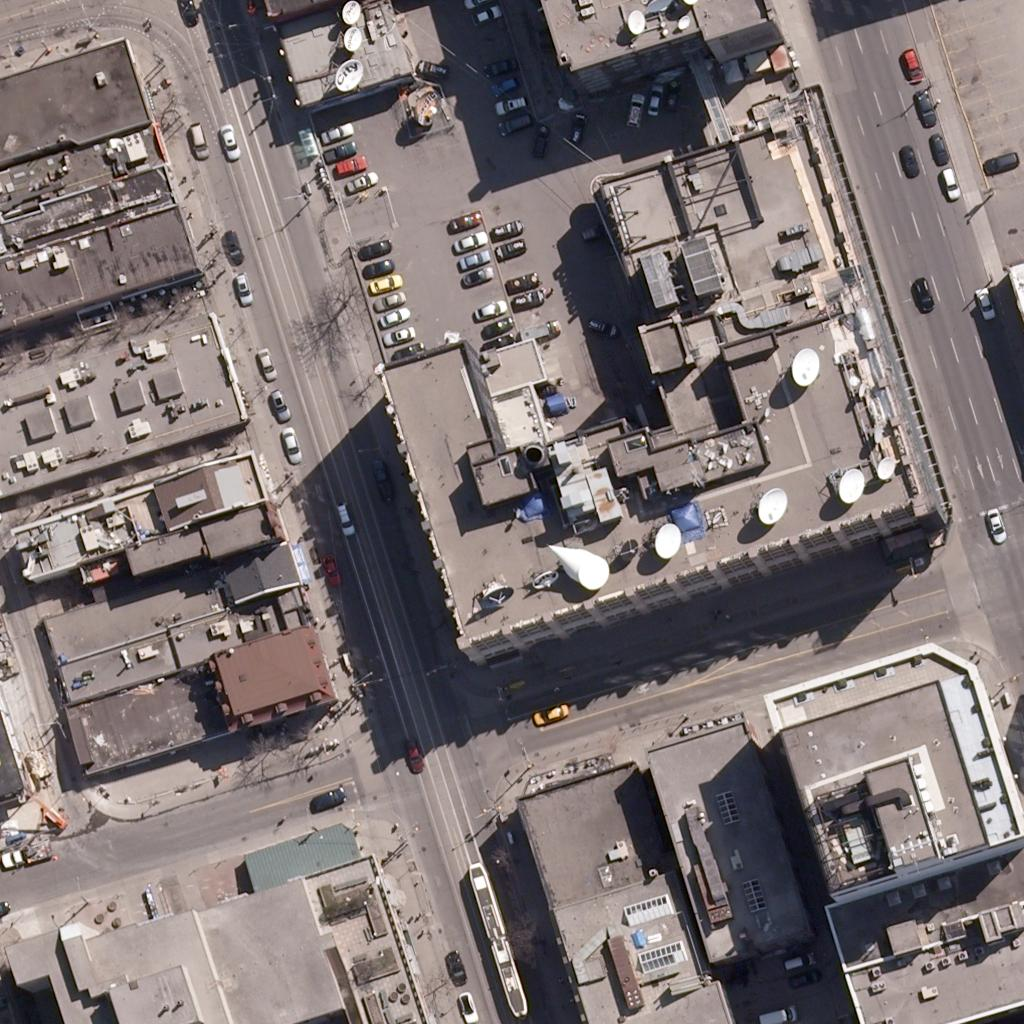car: (895, 47, 929, 81), (415, 49, 449, 83), (481, 49, 515, 83), (484, 68, 518, 102), (636, 80, 670, 114), (654, 80, 688, 114), (494, 85, 528, 119), (908, 90, 942, 124), (617, 91, 651, 125), (498, 105, 532, 139), (561, 106, 595, 140), (317, 114, 351, 148), (523, 119, 557, 153), (181, 123, 215, 157), (212, 124, 246, 158), (921, 130, 955, 164), (323, 131, 357, 165), (891, 144, 925, 178), (982, 144, 1016, 178), (332, 148, 366, 182), (930, 163, 964, 197), (343, 164, 377, 198), (445, 202, 479, 236), (490, 209, 524, 243), (489, 211, 523, 245), (574, 214, 608, 248), (452, 223, 486, 257), (214, 226, 248, 260), (496, 228, 530, 262), (357, 230, 391, 264), (456, 239, 490, 273), (360, 248, 394, 282), (461, 257, 495, 291), (369, 263, 403, 297), (505, 263, 539, 297), (224, 268, 258, 302), (905, 272, 939, 306), (376, 280, 410, 314), (513, 280, 547, 314), (966, 282, 1000, 316), (473, 291, 507, 325), (374, 299, 408, 333), (479, 308, 513, 342), (591, 311, 625, 345), (532, 312, 566, 346), (383, 315, 417, 349), (479, 325, 513, 359), (389, 332, 423, 366), (248, 345, 282, 379), (261, 384, 295, 418), (272, 425, 306, 459), (363, 459, 397, 493), (326, 500, 360, 534), (977, 507, 1011, 541), (311, 551, 345, 585), (531, 696, 565, 730), (394, 735, 428, 769), (309, 782, 343, 816), (5, 839, 39, 873), (781, 944, 815, 978), (439, 950, 473, 984), (784, 962, 818, 996), (449, 992, 483, 1024), (468, 0, 502, 30), (764, 998, 798, 1024), (169, 0, 203, 23)
